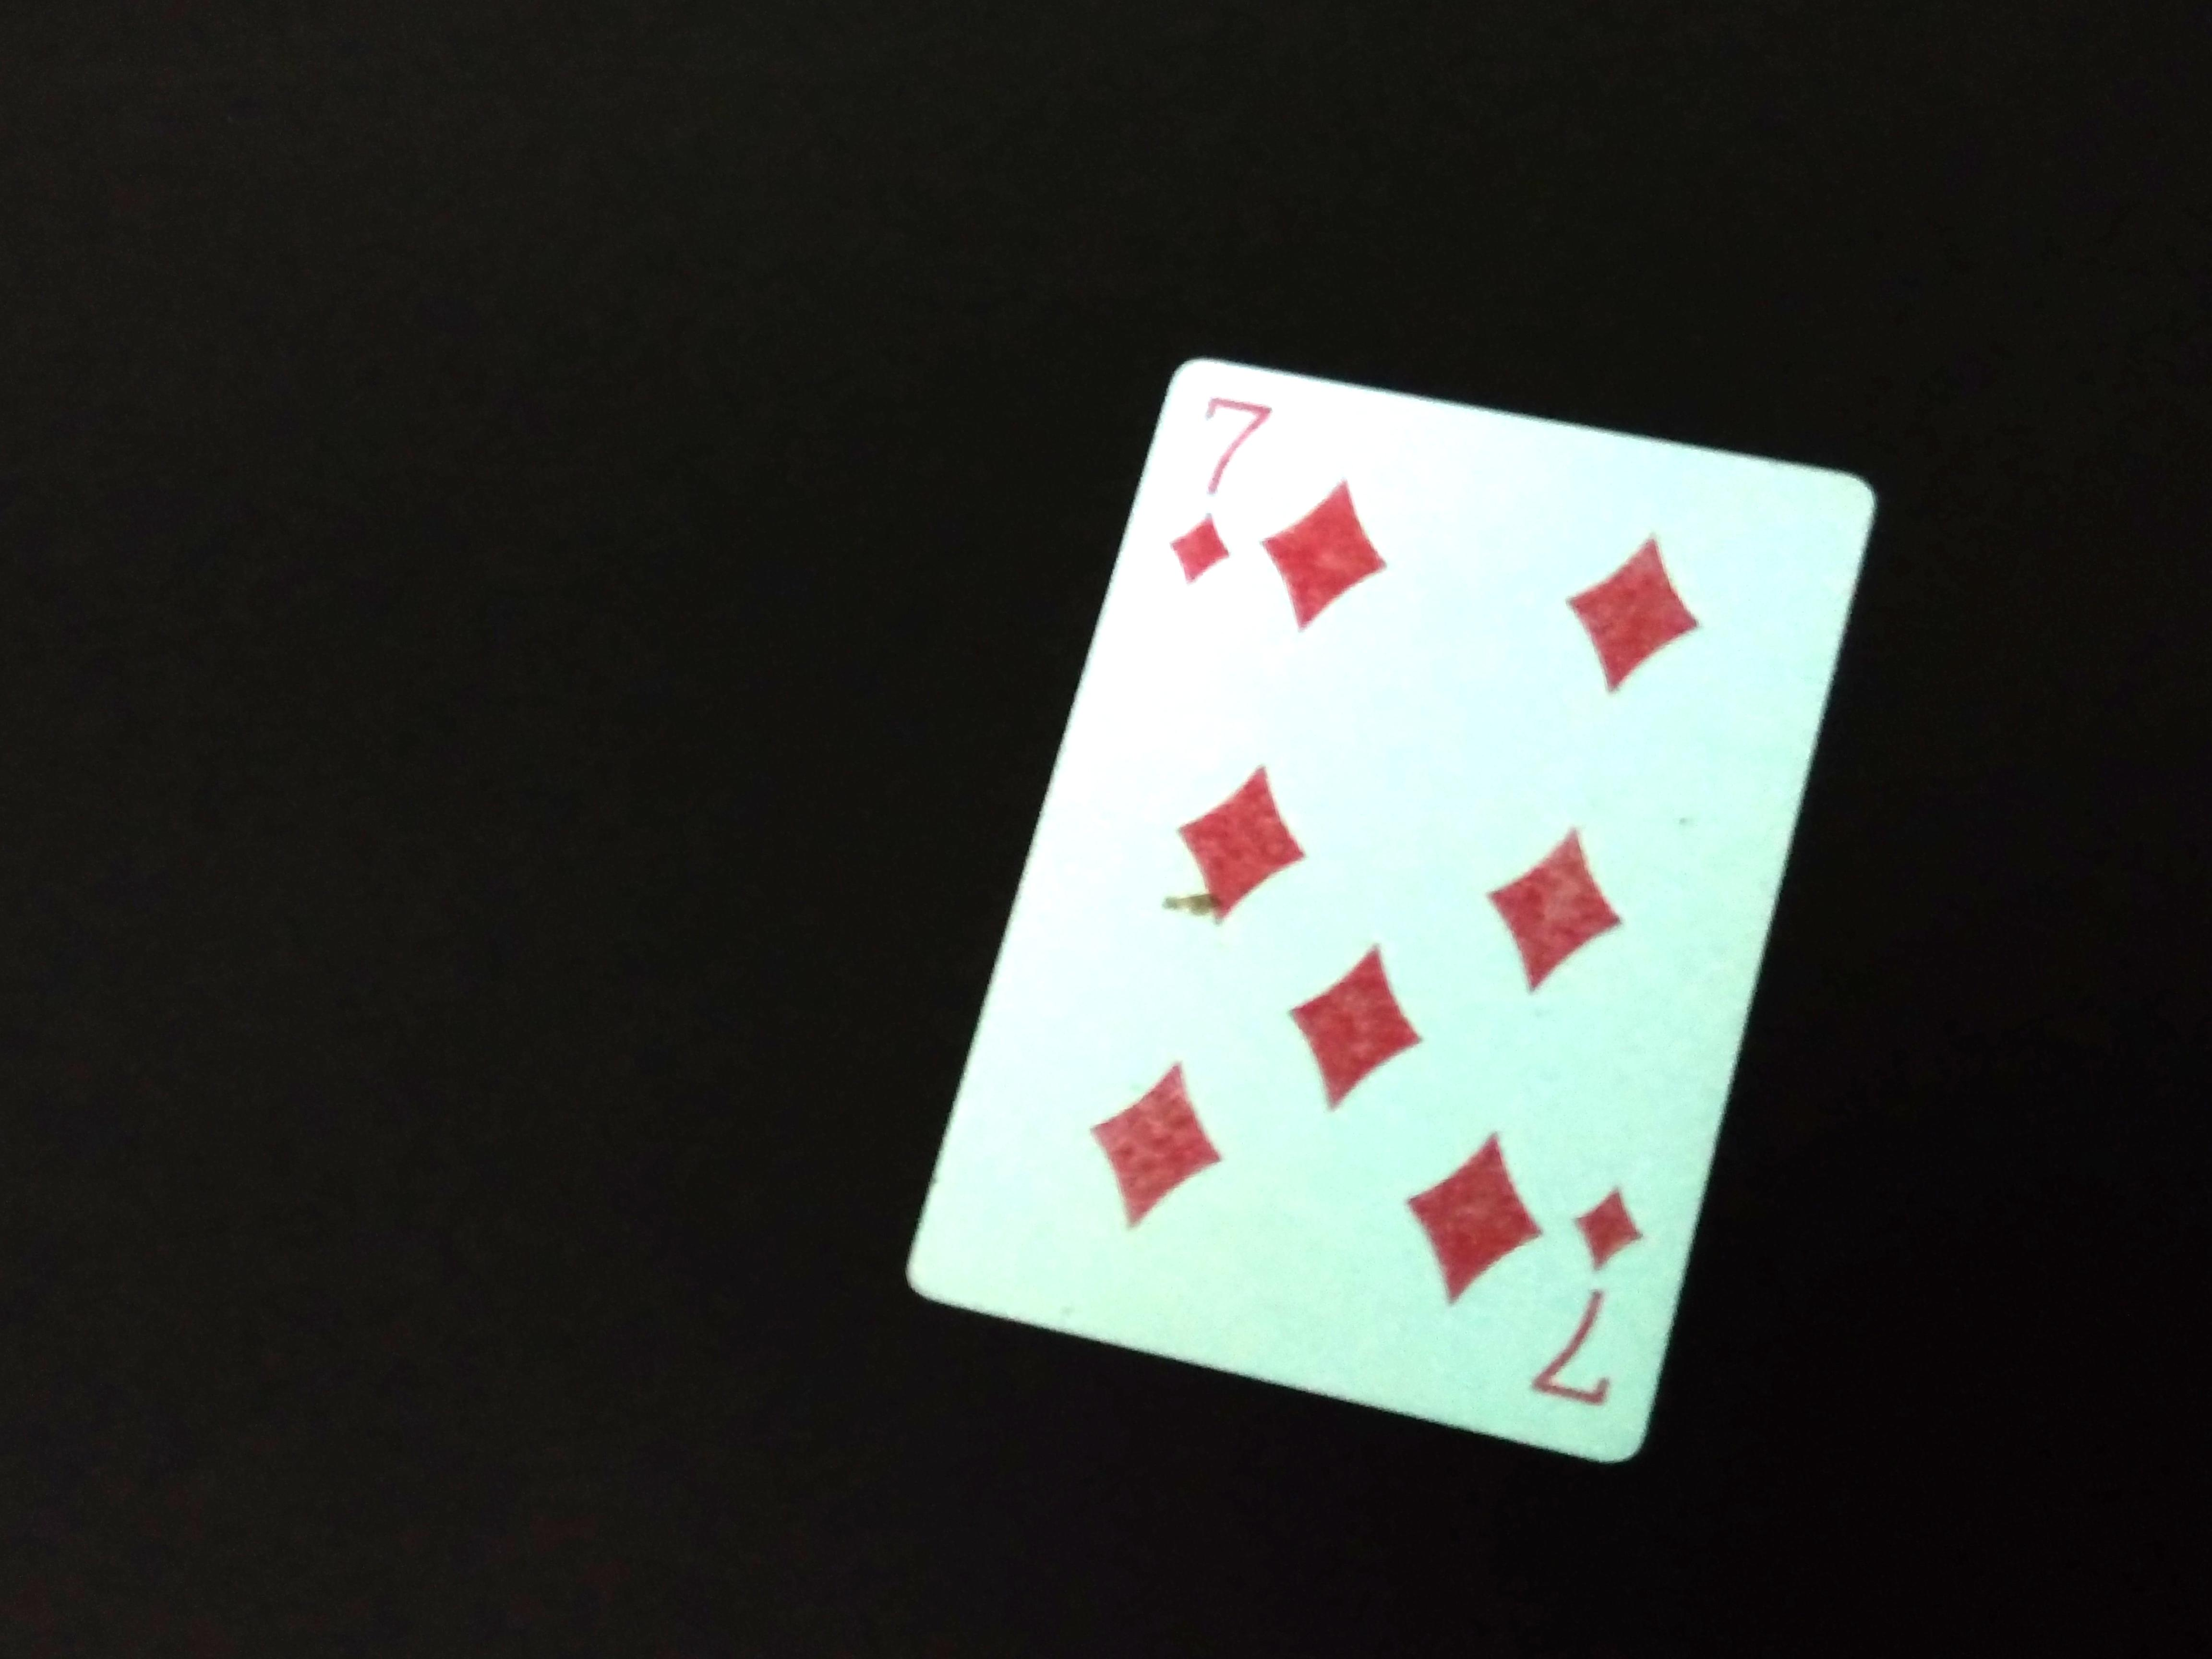7D: (1177, 382, 1277, 594)
